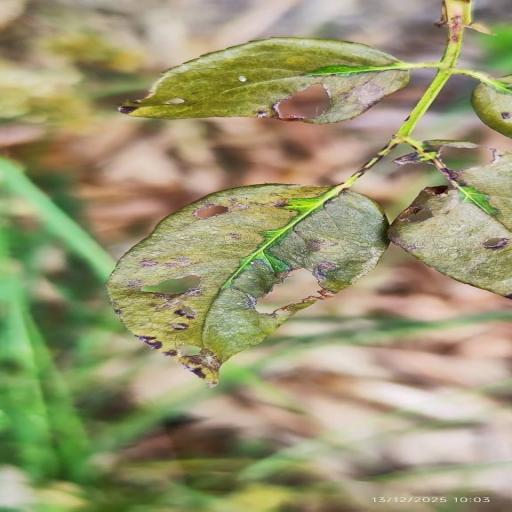thrip: (108, 184, 388, 386), (118, 38, 408, 124), (388, 140, 511, 298)
